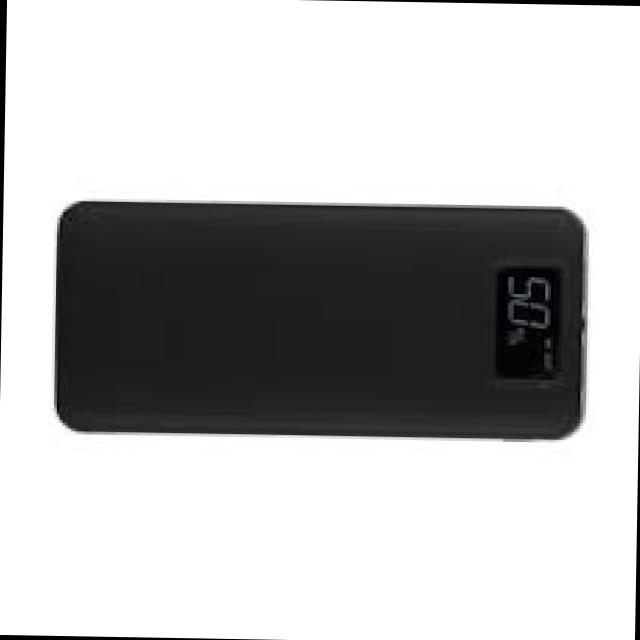portable-charger: (52, 200, 591, 444)
